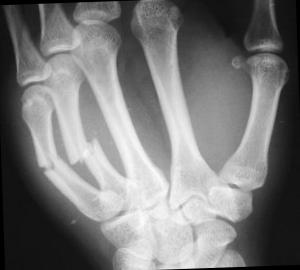fracture: (35, 150, 61, 185), (74, 138, 96, 168)
